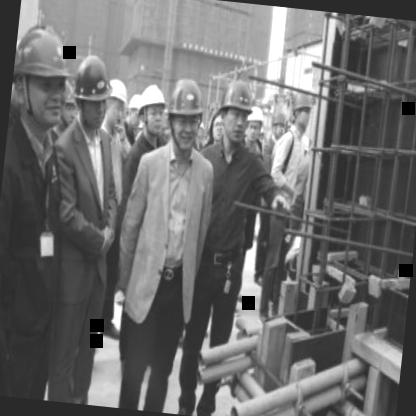helmet: (7, 19, 74, 136), (160, 72, 209, 152), (69, 50, 113, 132), (212, 74, 254, 149), (134, 79, 168, 139), (104, 75, 130, 131), (286, 90, 314, 136), (124, 88, 146, 138), (244, 102, 267, 146), (268, 106, 288, 146)
